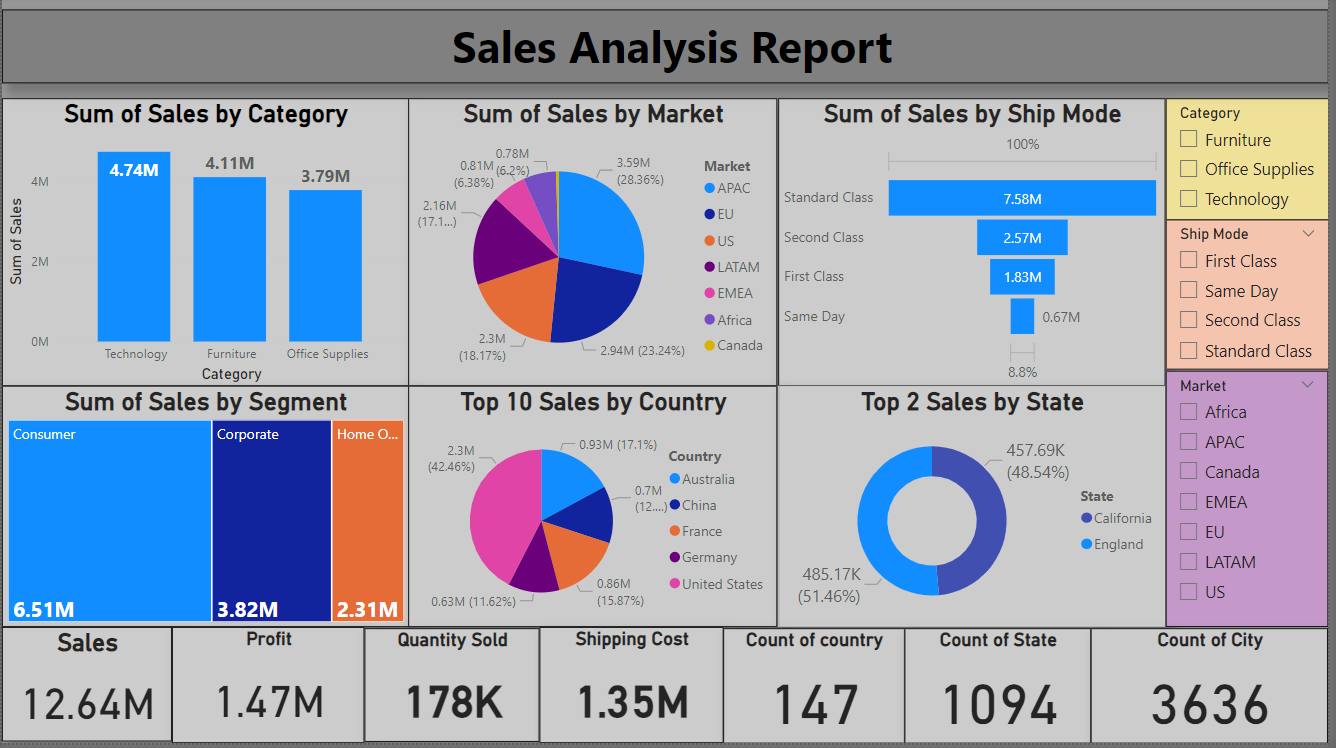

What the dashboard file says about the page in this screenshot:
{"tool":"powerbi","page":{"name":"Live Workshop","canvas":[1280,720],"ordinal":0},"visuals":[{"type":"columnChart","fields":{"Category":["Orders.Category"],"Y":["Sum(Orders.Sales)"]},"box":[0,97.5,392.5,277.5],"z":0},{"type":"pieChart","fields":{"Category":["Orders.Market"],"Y":["Sum(Orders.Sales)"]},"box":[392.5,97.5,356.2,277.5],"z":1000},{"type":"funnel","fields":{"Category":["Orders.Ship Mode"],"Y":["Sum(Orders.Sales)"]},"box":[748.8,97.5,373.8,277.5],"z":2000},{"type":"treemap","fields":{"Group":["Orders.Segment"],"Values":["Sum(Orders.Sales)"]},"box":[0,375,392.5,232.5],"z":3000},{"type":"pieChart","title":"Top 10 Sales by Country","fields":{"Y":["Sum(Orders.Sales)"],"Series":["Orders.Country"]},"box":[392.5,375,356.2,232.5],"z":4000},{"type":"donutChart","title":"Top 2 Sales by State","fields":{"Y":["Sum(Orders.Sales)"],"Series":["Orders.State"]},"box":[748.8,375,373.8,232.5],"z":5000},{"type":"slicer","fields":{"Values":["Orders.Category"]},"box":[1122.5,97.5,157.5,117.5],"z":6000},{"type":"slicer","fields":{"Values":["Orders.Market"]},"box":[1122.5,360,157.5,247.5],"z":7000},{"type":"slicer","fields":{"Values":["Orders.Ship Mode"]},"box":[1122.5,215,157.5,145],"z":8000},{"type":"card","title":"Sales","fields":{"Values":["Sum(Orders.Sales)"]},"box":[0,607.5,163.8,110],"z":9000},{"type":"card","title":"Profit","fields":{"Values":["Sum(Orders.Profit)"]},"box":[164,607.8,185.7,112.2],"z":10000},{"type":"card","title":"Quantity Sold","fields":{"Values":["Sum(Orders.Quantity)"]},"box":[349.7,609,168.8,109.7],"z":11000},{"type":"card","title":"Shipping Cost","fields":{"Values":["Sum(Orders.Shipping Cost)"]},"box":[518.6,607.8,177.3,112.2],"z":12000},{"type":"textbox","box":[0,12.5,1280,71.2],"z":13000}]}

Visuals, with their boxes in screenshot pixels (x1, y1, x2, y2), scaled from the page's 1280x720 canvas onto the 1336x748 screenshot:
columnChart - Orders.Category x Sum(Orders.Sales): (left=0, top=101, right=410, bottom=390)
pieChart - Orders.Market x Sum(Orders.Sales): (left=410, top=101, right=781, bottom=390)
funnel - Orders.Ship Mode x Sum(Orders.Sales): (left=782, top=101, right=1172, bottom=390)
treemap - Orders.Segment x Sum(Orders.Sales): (left=0, top=390, right=410, bottom=631)
"Top 10 Sales by Country" pieChart: (left=410, top=390, right=781, bottom=631)
"Top 2 Sales by State" donutChart: (left=782, top=390, right=1172, bottom=631)
slicer - Orders.Category: (left=1172, top=101, right=1335, bottom=223)
slicer - Orders.Market: (left=1172, top=374, right=1335, bottom=631)
slicer - Orders.Ship Mode: (left=1172, top=223, right=1335, bottom=374)
"Sales" card: (left=0, top=631, right=171, bottom=745)
"Profit" card: (left=171, top=631, right=365, bottom=747)
"Quantity Sold" card: (left=365, top=633, right=541, bottom=747)
"Shipping Cost" card: (left=541, top=631, right=726, bottom=747)
textbox: (left=0, top=13, right=1335, bottom=87)
